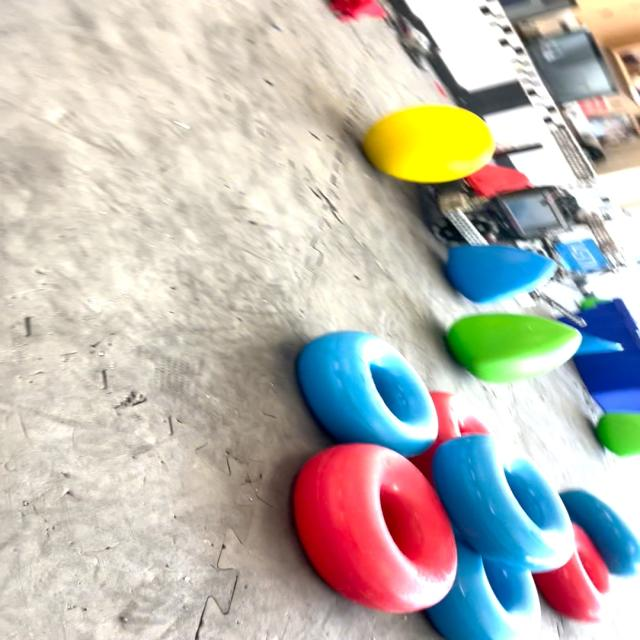Blue-Ring: (433, 435, 573, 572), (298, 331, 438, 456), (427, 529, 540, 640), (560, 490, 639, 578)
Red-Ring: (293, 442, 458, 612), (533, 524, 609, 622), (409, 391, 489, 482)
